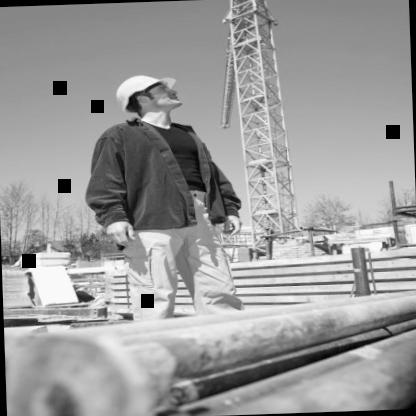helmet: (110, 69, 184, 120)
